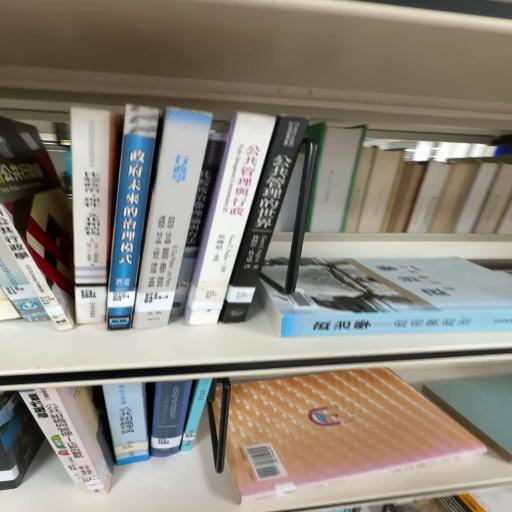flat: (225, 368, 486, 502), (257, 257, 512, 337)
